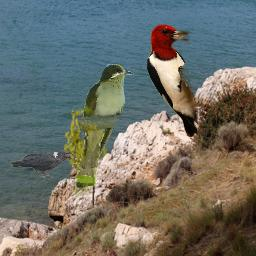Crow: (9, 149, 75, 180)
Cuckoo: (74, 64, 134, 197)
Woodpecker: (146, 24, 198, 137)
